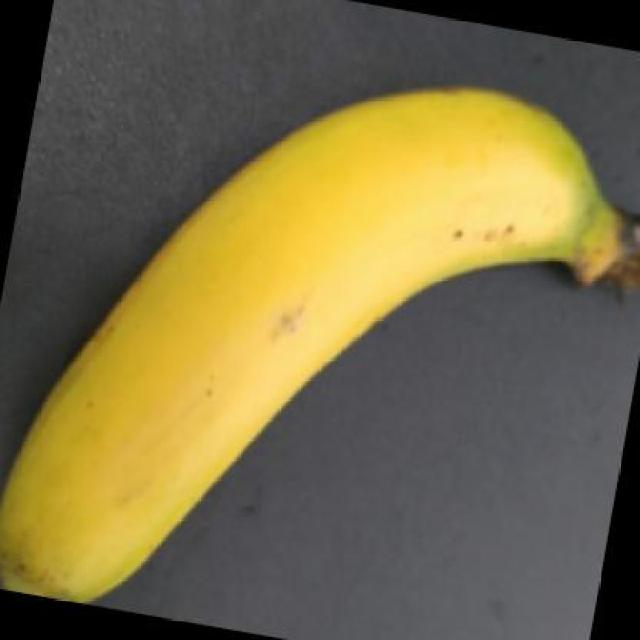Ripe: (0, 46, 640, 618)
